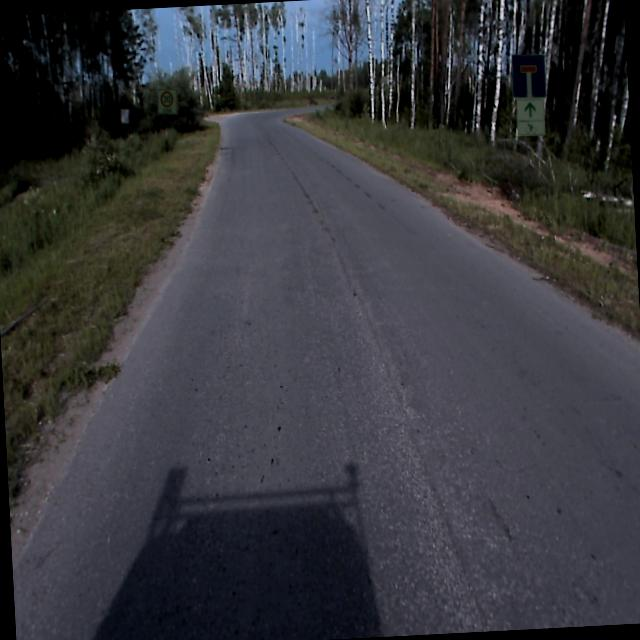road: (12, 111, 640, 640)
